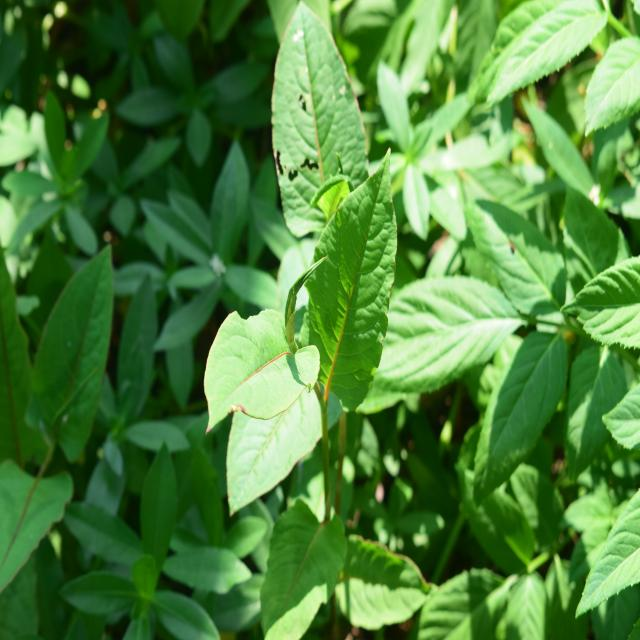Chinese_knotweed: (222, 17, 417, 506)
